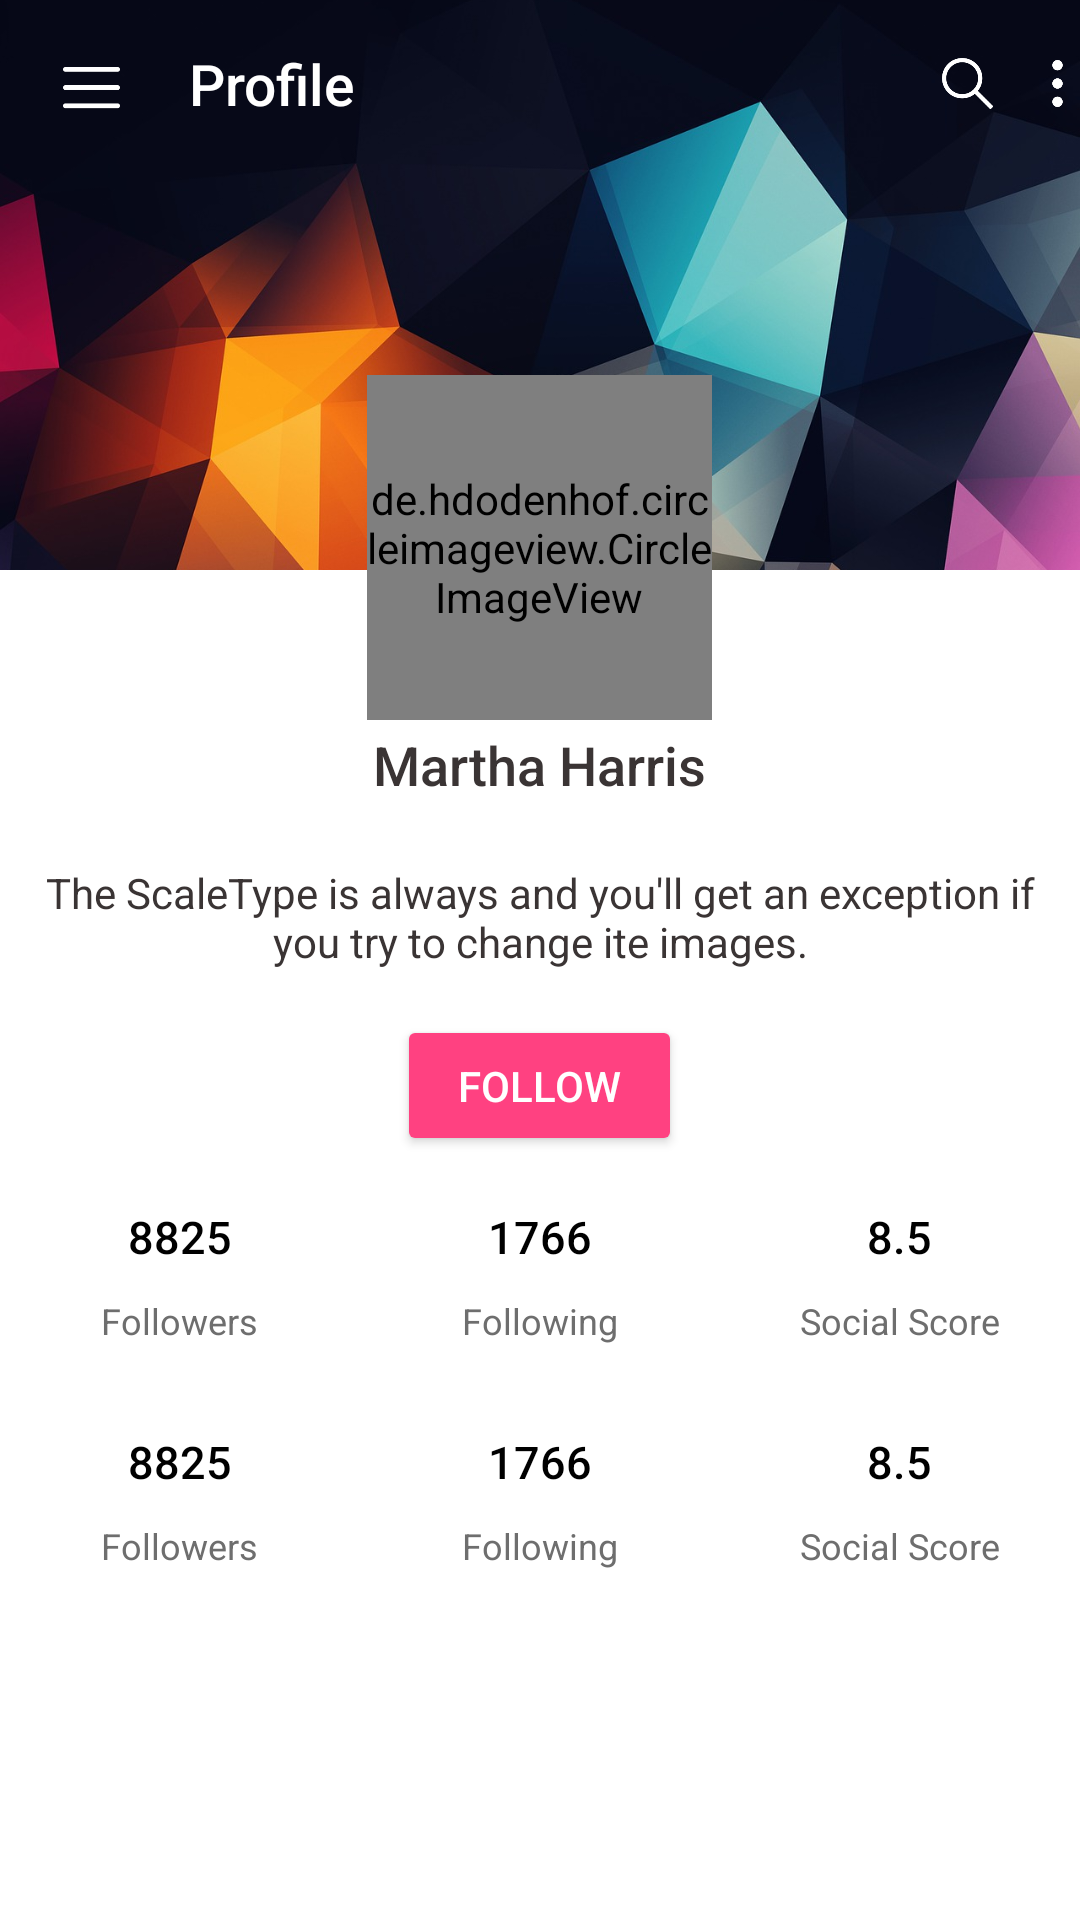

Named icons in this screenshot (1080w x 1920h) and their centers, (x,y):
menu: (91,88)
search: (979,104)
